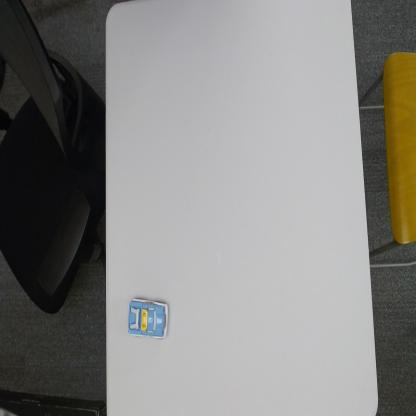Car: (127, 293, 171, 341)
